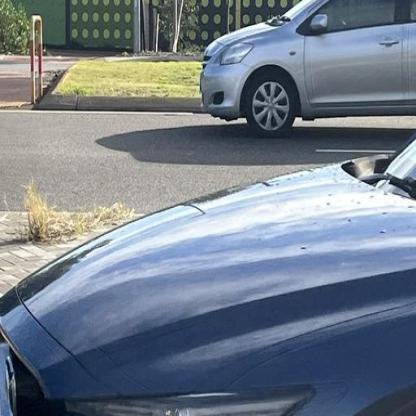Tire: (246, 71, 296, 138)
